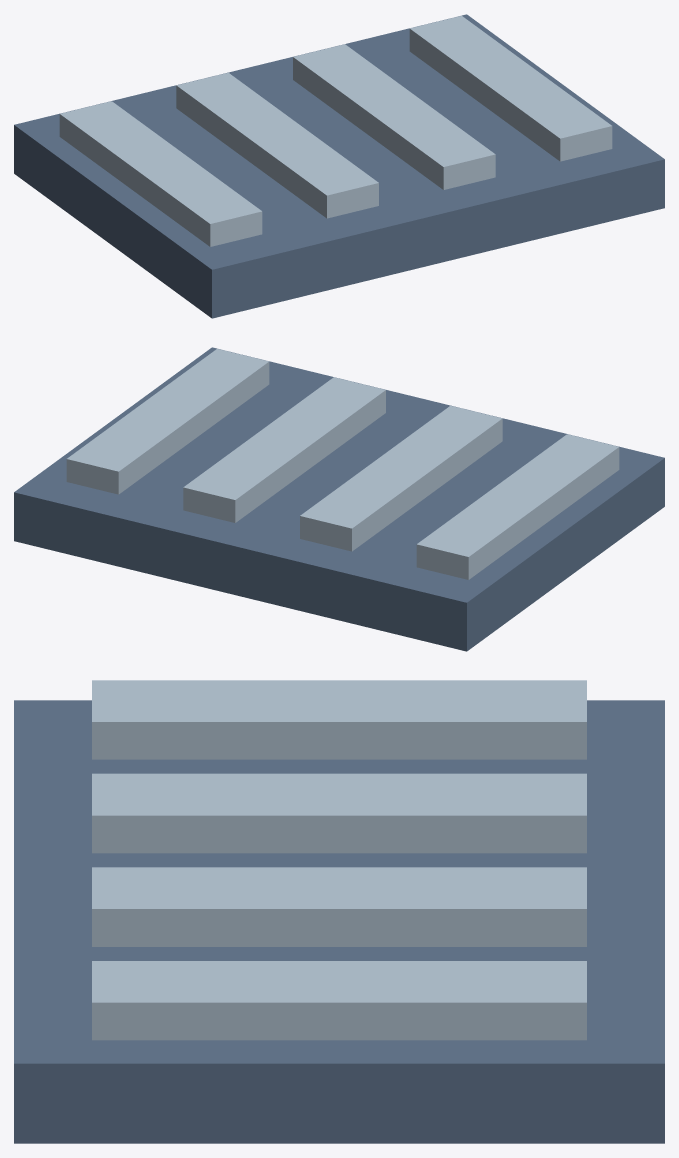
The model's file is 47_L90_ThrustVectorCalibrationFixture.fbx.
3 views of the same model, one above another, from view 1: azimuth 30°, elevation 25°; view 2: azimuth 150°, elevation 25°; view 3: azimuth 270°, elevation 25° (orthographic). The views are drawn at different scales.
Visible parts, largest first — view 1: L90_ThrustVectorCalibrationFixture, L90_ThrustVectorCalibrationFixture_Part_0001; view 2: L90_ThrustVectorCalibrationFixture, L90_ThrustVectorCalibrationFixture_Part_0001; view 3: L90_ThrustVectorCalibrationFixture_Part_0001, L90_ThrustVectorCalibrationFixture.
Part boxes in pixels (x1,y1,x2,y2): L90_ThrustVectorCalibrationFixture: (14, 14, 664, 318); L90_ThrustVectorCalibrationFixture_Part_0001: (59, 16, 612, 246); L90_ThrustVectorCalibrationFixture: (14, 347, 664, 651); L90_ThrustVectorCalibrationFixture_Part_0001: (66, 349, 619, 579); L90_ThrustVectorCalibrationFixture_Part_0001: (92, 680, 586, 1040); L90_ThrustVectorCalibrationFixture: (14, 700, 664, 1143).
Size of the model in its own units: 330 by 84.5 by 250.
